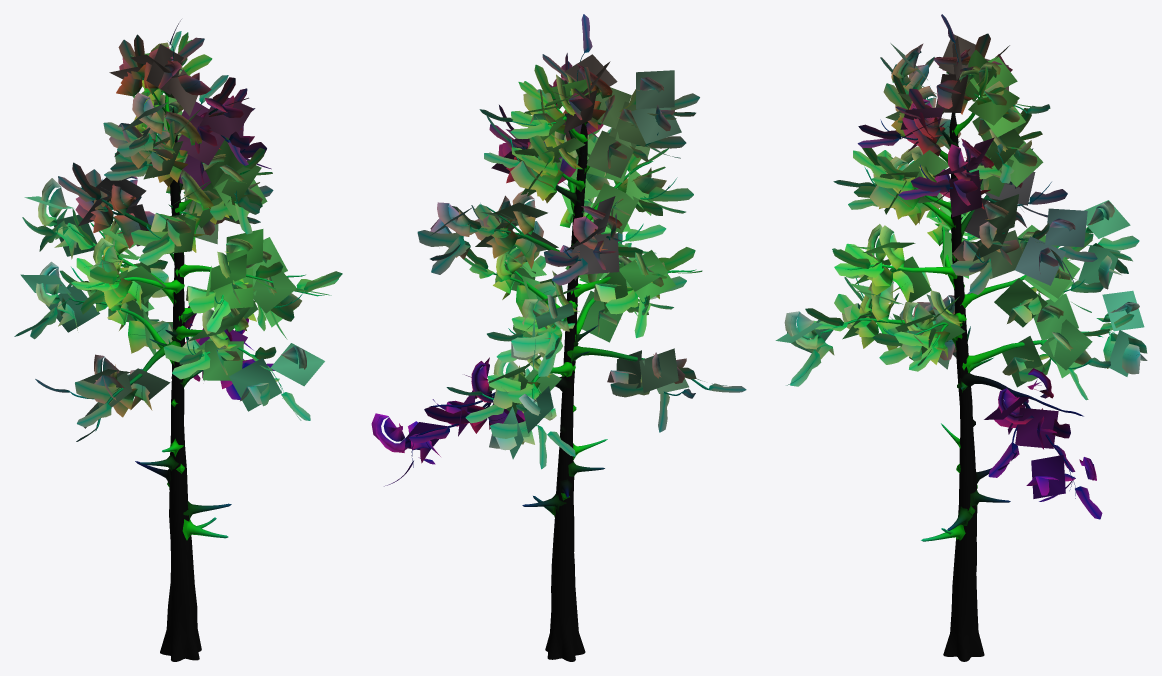
Rendered from Scots One.fbx.
3 views of the same model, side by side, from view 1: azimuth 30°, elevation 25°; view 2: azimuth 150°, elevation 25°; view 3: azimuth 270°, elevation 25° (orthographic). The views are drawn at different scales.
Visible parts, largest first — view 1: branch08_1, _0; view 2: branch08_1, _0; view 3: branch08_1, _0.
Part boxes in pixels (x1,y1,x2,y2): branch08_1: [14, 19, 342, 441]; _0: [49, 41, 324, 661]; branch08_1: [371, 14, 746, 486]; _0: [411, 49, 709, 661]; branch08_1: [775, 14, 1147, 519]; _0: [810, 41, 1112, 661].
Bounding box in the file's own units: 847 × 1869 × 994.
